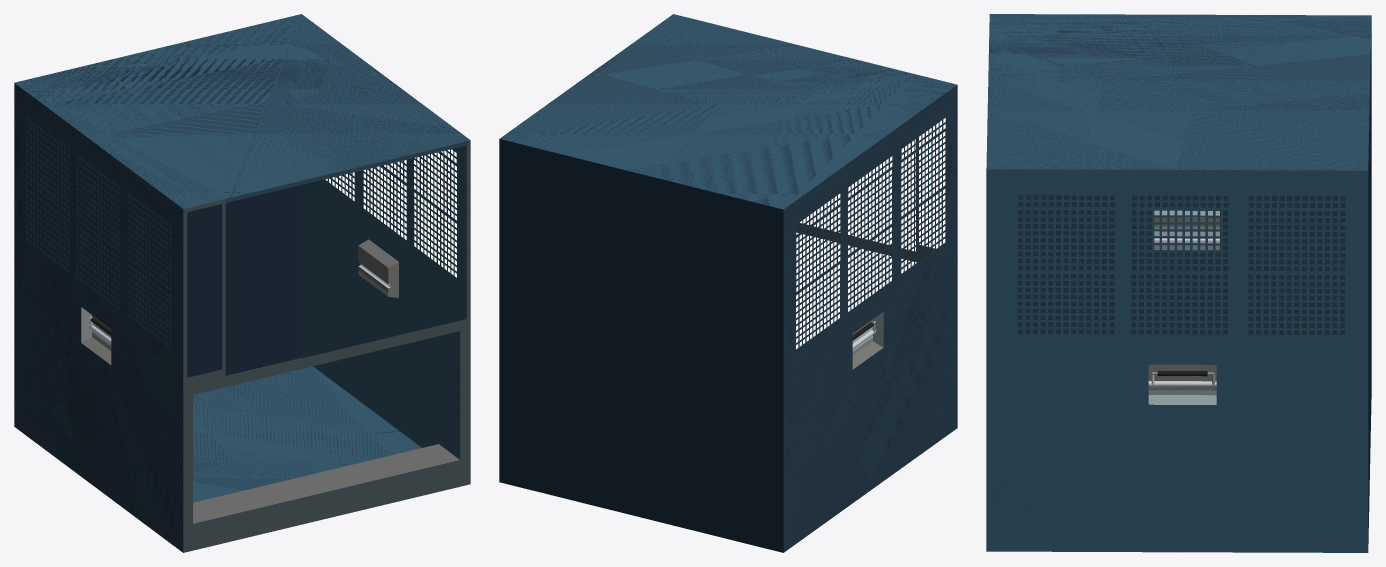
File: emptyCisco2.dae
3 views of the same model, side by side, from view 1: azimuth 30°, elevation 25°; view 2: azimuth 150°, elevation 25°; view 3: azimuth 270°, elevation 25° (orthographic). The views are drawn at different scales.
Parts seen in each view (by area): view 1: group_1, group_8, group_5, group_6, group_7 (×3), group_2, group_4; view 2: group_6, group_1, group_8, group_7; view 3: group_5, group_8, group_1, group_4 (×2), group_6, group_0 (×2).
Boxes of the visible parts, x1=… form: group_1: x1=14, y1=83, x2=183, y2=552; group_8: x1=14, y1=14, x2=470, y2=208; group_5: x1=301, y1=145, x2=466, y2=459; group_6: x1=26, y1=117, x2=301, y2=377; group_7 (×3): x1=183, y1=140, x2=470, y2=552; group_2: x1=193, y1=358, x2=421, y2=502; group_4: x1=358, y1=239, x2=398, y2=297; group_6: x1=499, y1=139, x2=783, y2=552; group_1: x1=783, y1=85, x2=957, y2=552; group_8: x1=499, y1=14, x2=956, y2=209; group_7: x1=796, y1=138, x2=934, y2=262; group_5: x1=986, y1=169, x2=1368, y2=552; group_8: x1=986, y1=14, x2=1371, y2=170; group_1: x1=1017, y1=195, x2=1345, y2=334; group_4 (×2): x1=1148, y1=364, x2=1216, y2=404; group_6: x1=1368, y1=17, x2=1371, y2=543; group_0 (×2): x1=1154, y1=210, x2=1219, y2=249.
Bounding box in the file's own units: 17.65 × 18.34 × 20.1.
